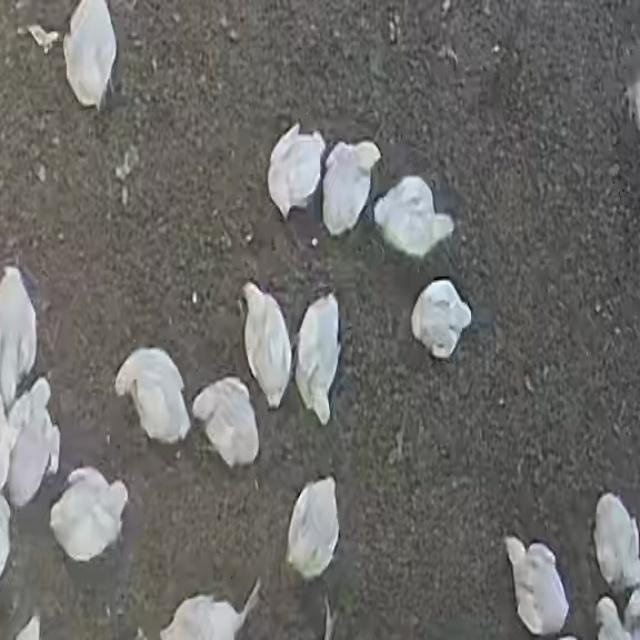chicken: (49, 466, 129, 562), (116, 347, 191, 445), (239, 281, 293, 409), (376, 177, 455, 261), (6, 384, 59, 506), (506, 538, 570, 637), (193, 378, 260, 471), (294, 292, 341, 423), (321, 140, 381, 237), (269, 121, 328, 217), (286, 478, 339, 582), (0, 268, 38, 406), (66, 0, 114, 109), (411, 278, 474, 360), (592, 494, 640, 592)
